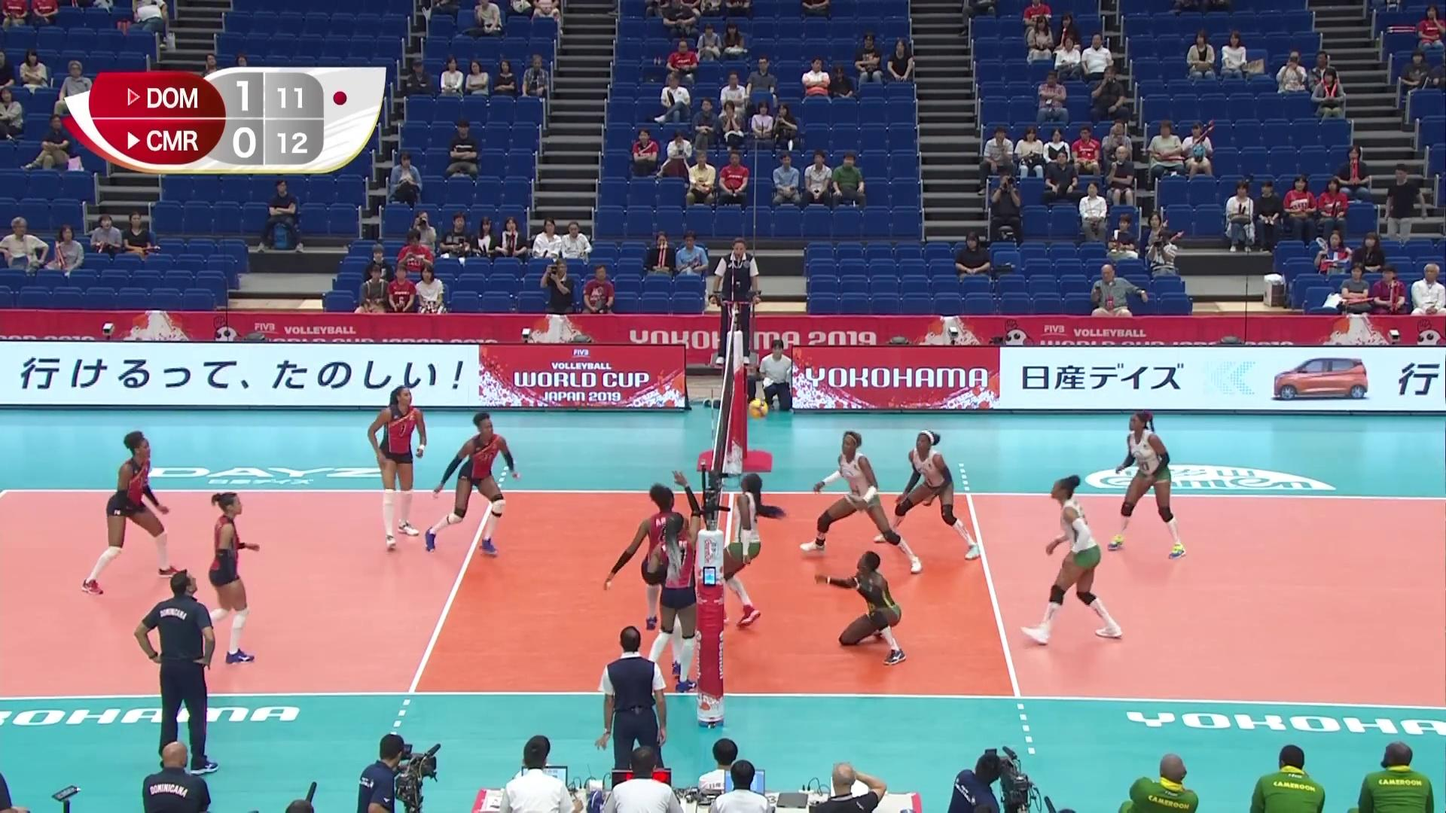player: (611, 483, 711, 672), (1030, 482, 1132, 648), (803, 435, 915, 578), (89, 433, 182, 594), (642, 472, 704, 697), (705, 469, 783, 636), (885, 431, 980, 567), (432, 416, 520, 557), (1101, 412, 1185, 556), (819, 549, 915, 669), (194, 493, 260, 666), (362, 385, 429, 551)
refree: (600, 624, 673, 806), (714, 234, 761, 367)
